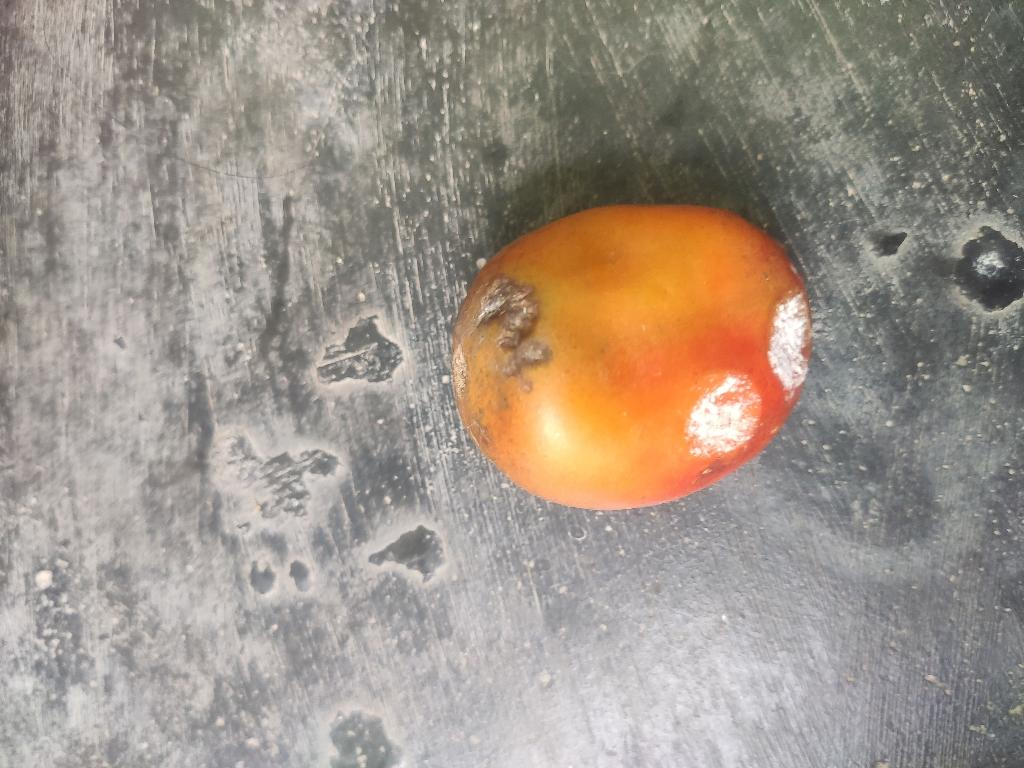rot_mold_decay: (678, 370, 763, 461), (473, 277, 550, 376), (763, 290, 812, 393)
tomato: (452, 206, 811, 509)
